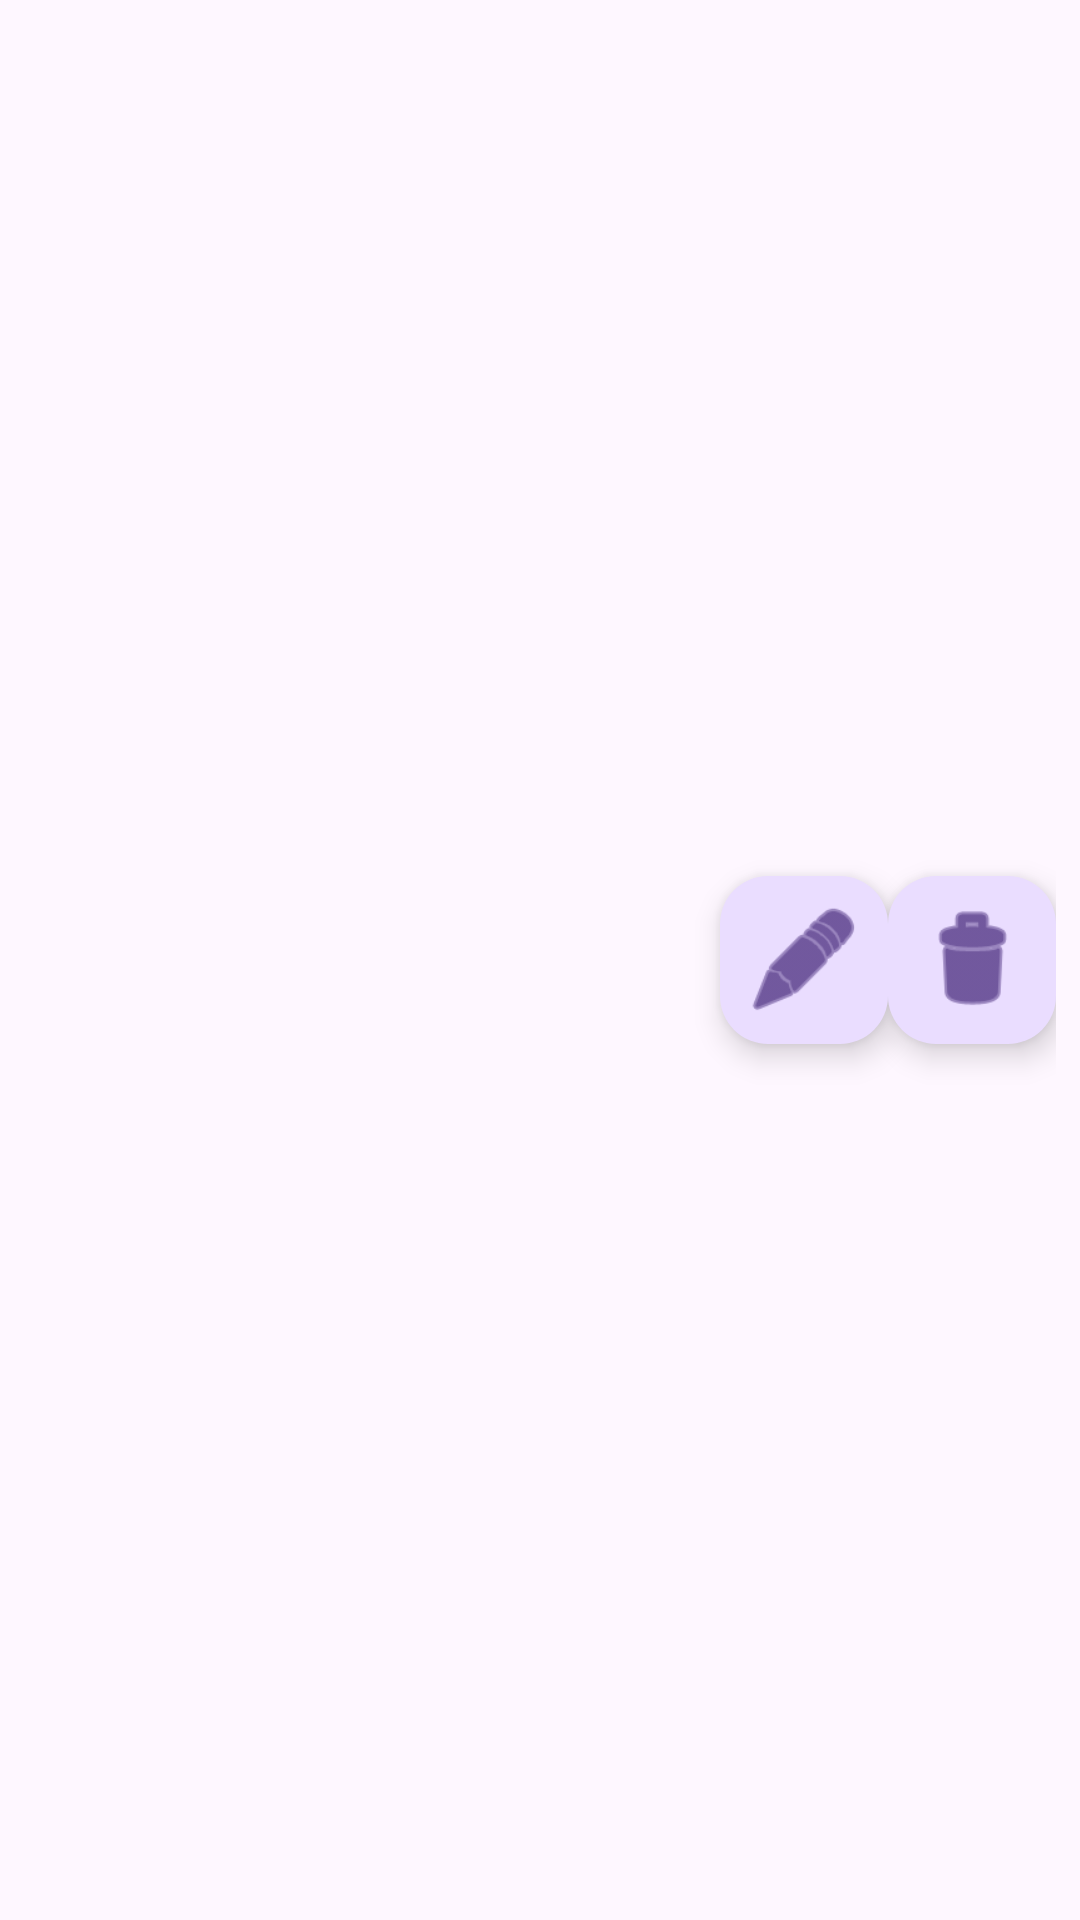

Screen size 1080*1920. Icon name, then its box in pixels as {"x1": x1, "y1": y1, "x2": x2, "y2": y2}:
Delete group button: {"x1": 888, "y1": 876, "x2": 1056, "y2": 1044}
Edit groups info: {"x1": 720, "y1": 876, "x2": 888, "y2": 1044}
